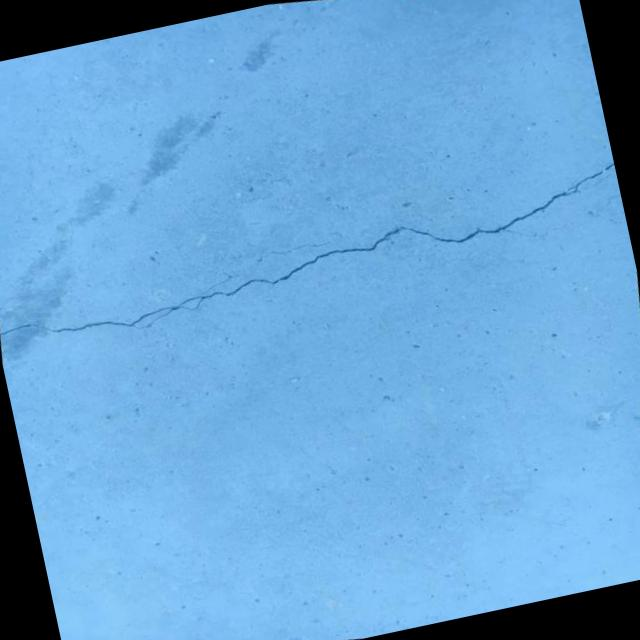crack: (0, 71, 639, 416)
